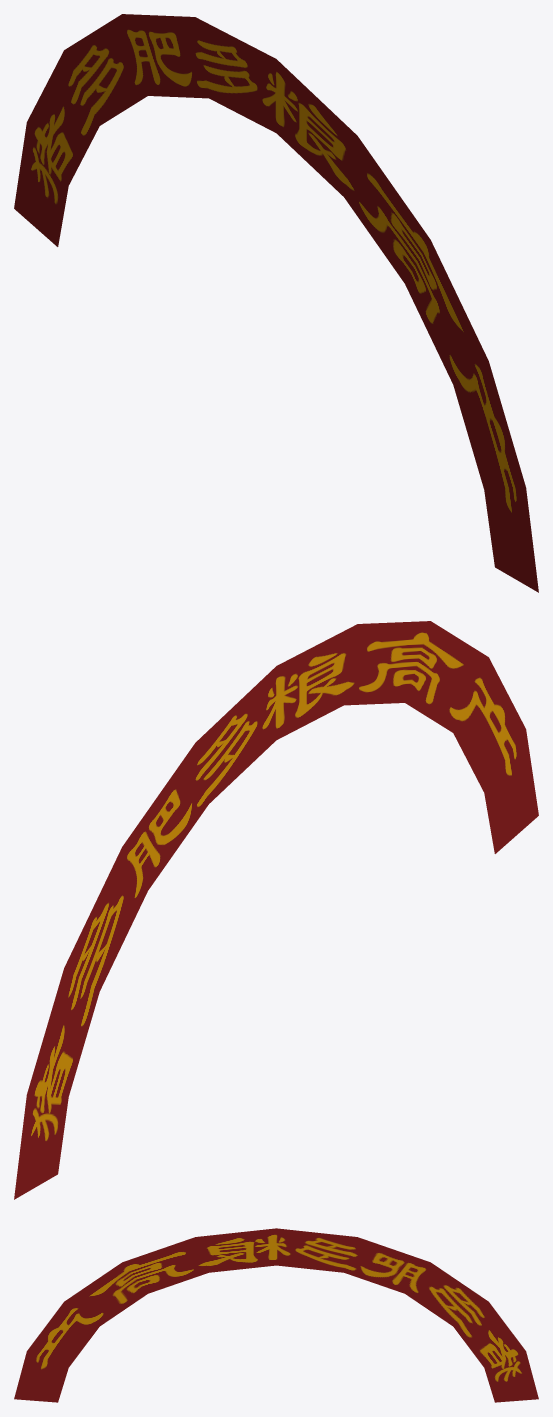
Rendered from PropagandaPoster_Pig.fbx.
3 renders of one model, top to bottom at view 1: azimuth 30°, elevation 25°; view 2: azimuth 150°, elevation 25°; view 3: azimuth 270°, elevation 25°, orthographic. The views are drawn at different scales.
Parts seen in each view (by area): view 1: polySurface2; view 2: polySurface2; view 3: polySurface2.
Boxes of the visible parts, left/top/right/bottom form: polySurface2: left=14, top=14, right=538, bottom=592; polySurface2: left=14, top=621, right=538, bottom=1199; polySurface2: left=14, top=1228, right=538, bottom=1402.
Bounding box in the file's own units: 0 × 7.27 × 19.85.
Materials: 1 (1 with a texture image).
